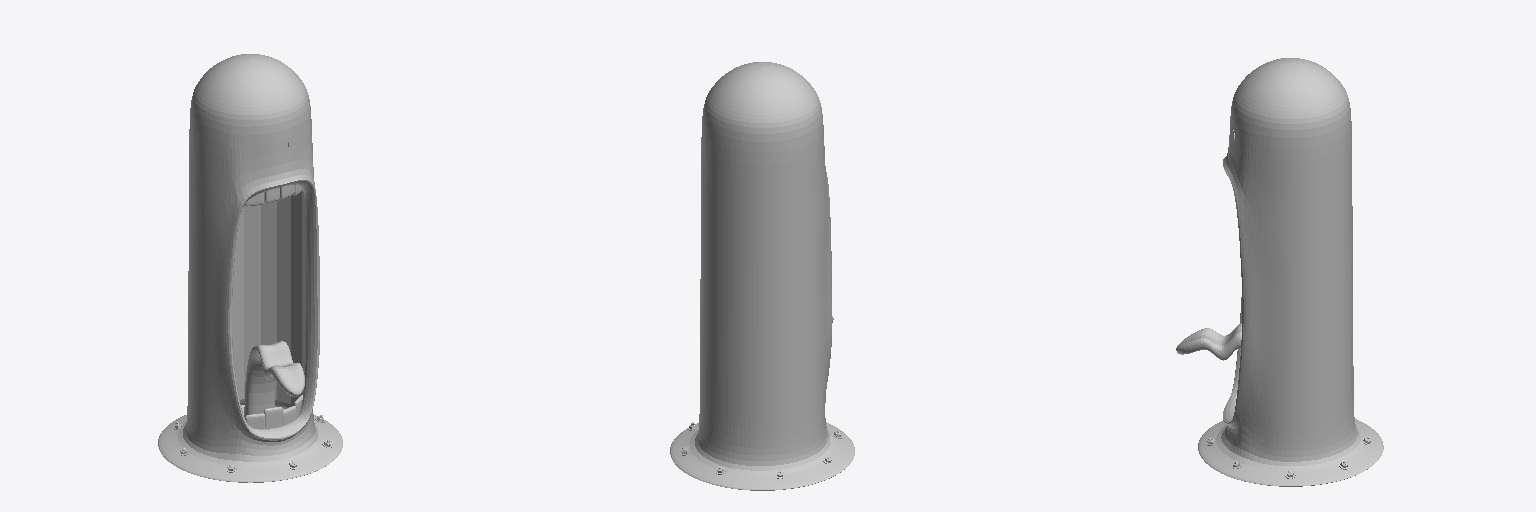
Rendered from enemy1.obj.
3 views of the same model, side by side, from view 1: azimuth 30°, elevation 25°; view 2: azimuth 150°, elevation 25°; view 3: azimuth 270°, elevation 25° (orthographic).
Visible parts, largest first — view 1: Sphere, Cylinder_Cylinder.001, Circle_Circle.001, Cube.009; view 2: Sphere; view 3: Sphere, Circle_Circle.001.
Boxes of the visible parts, x1=… form: Sphere: x1=158, y1=54, x2=342, y2=482; Cylinder_Cylinder.001: x1=232, y1=191, x2=305, y2=405; Circle_Circle.001: x1=244, y1=341, x2=304, y2=416; Cube.009: x1=245, y1=185, x2=302, y2=428; Sphere: x1=670, y1=62, x2=854, y2=490; Sphere: x1=1198, y1=58, x2=1383, y2=486; Circle_Circle.001: x1=1176, y1=323, x2=1241, y2=360.
Bounding box in the file's own units: 1.55 × 3.56 × 1.74.